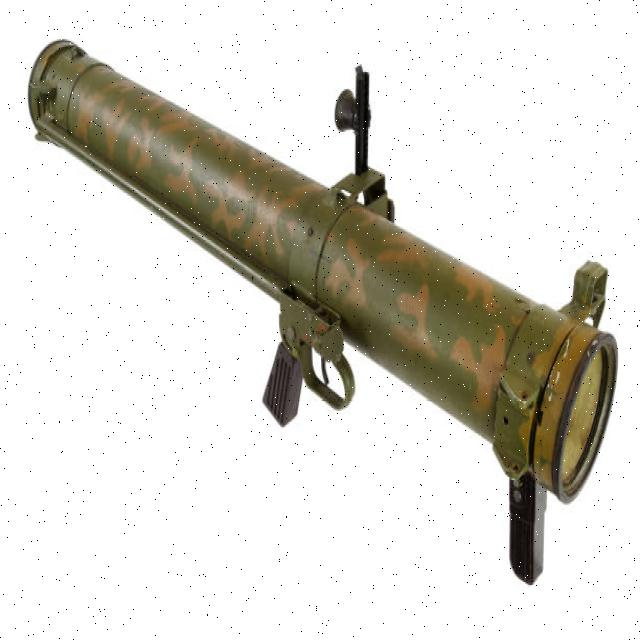bazooka: (28, 31, 624, 594)
